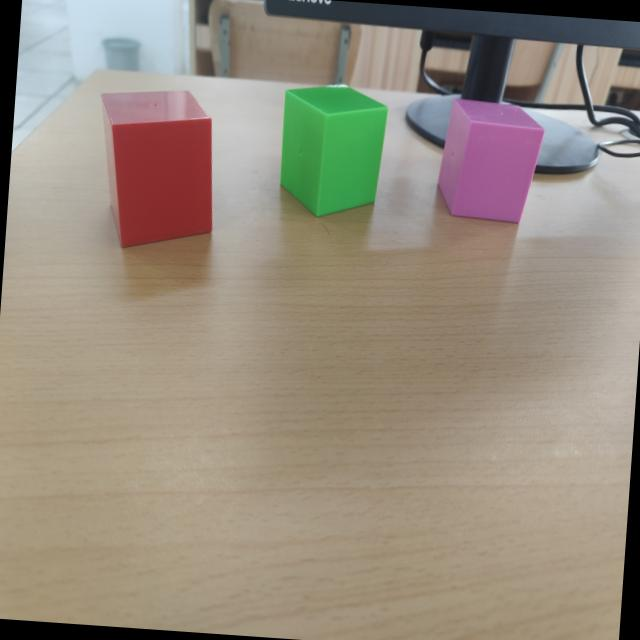green: (278, 85, 388, 218)
pink: (437, 97, 544, 226)
red: (100, 91, 213, 249)
